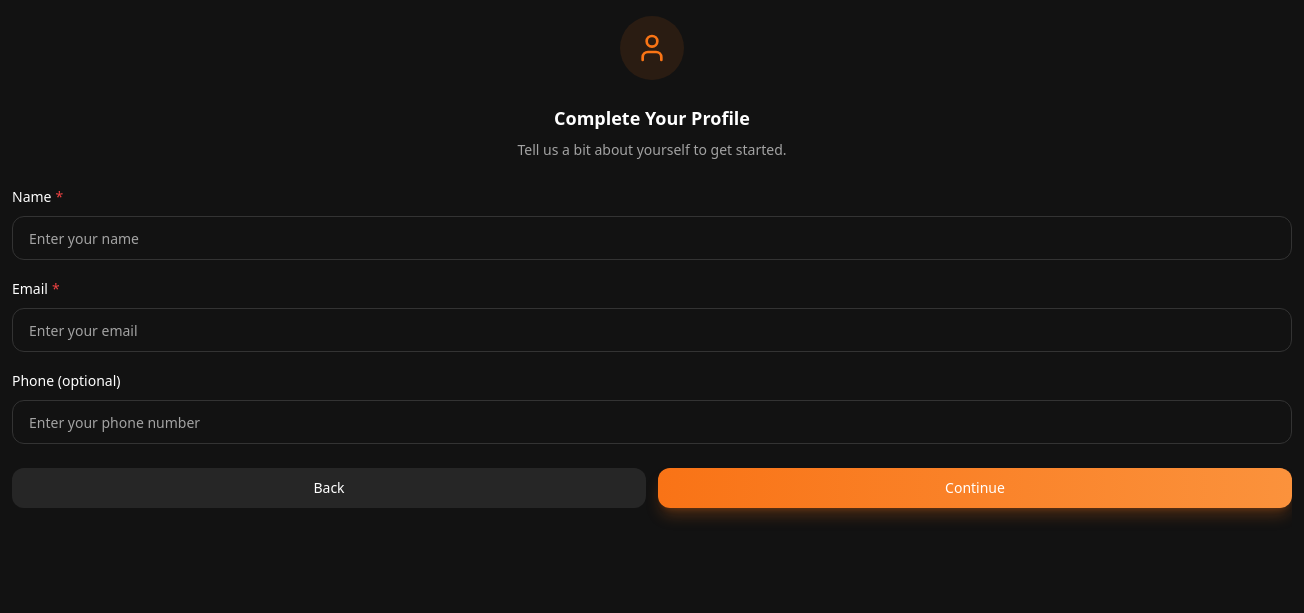
Test case: shows the API error and stays on the step when saving fails
Type "Alice" into the field labelled "Name*" at [652, 238], box [12,216,1292,260]
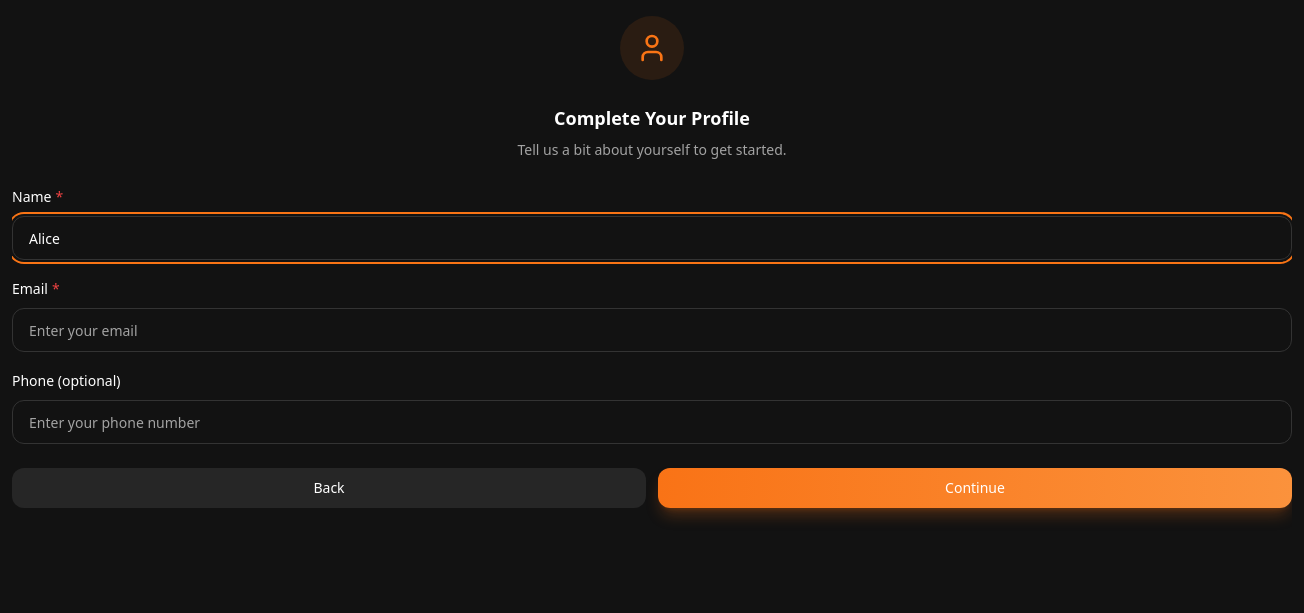
Type "alice@example.com" into the field labelled "Email*" at [652, 330], box [12,308,1292,352]
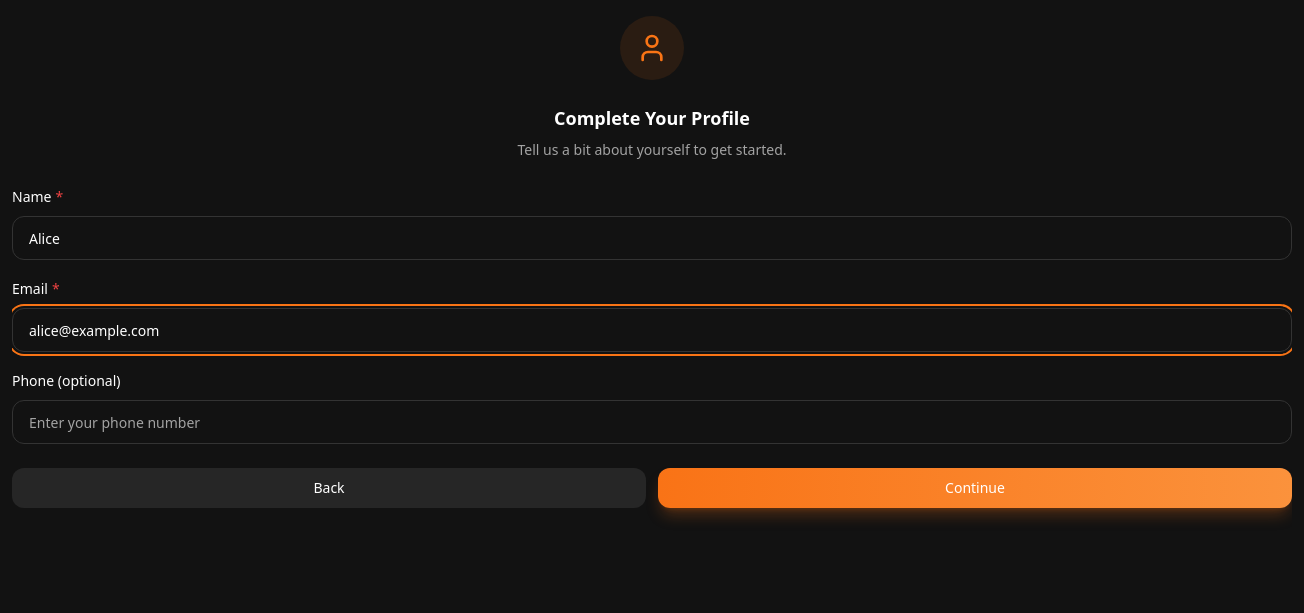
Click the button "Continue" at [975, 488], box [658,468,1292,508]
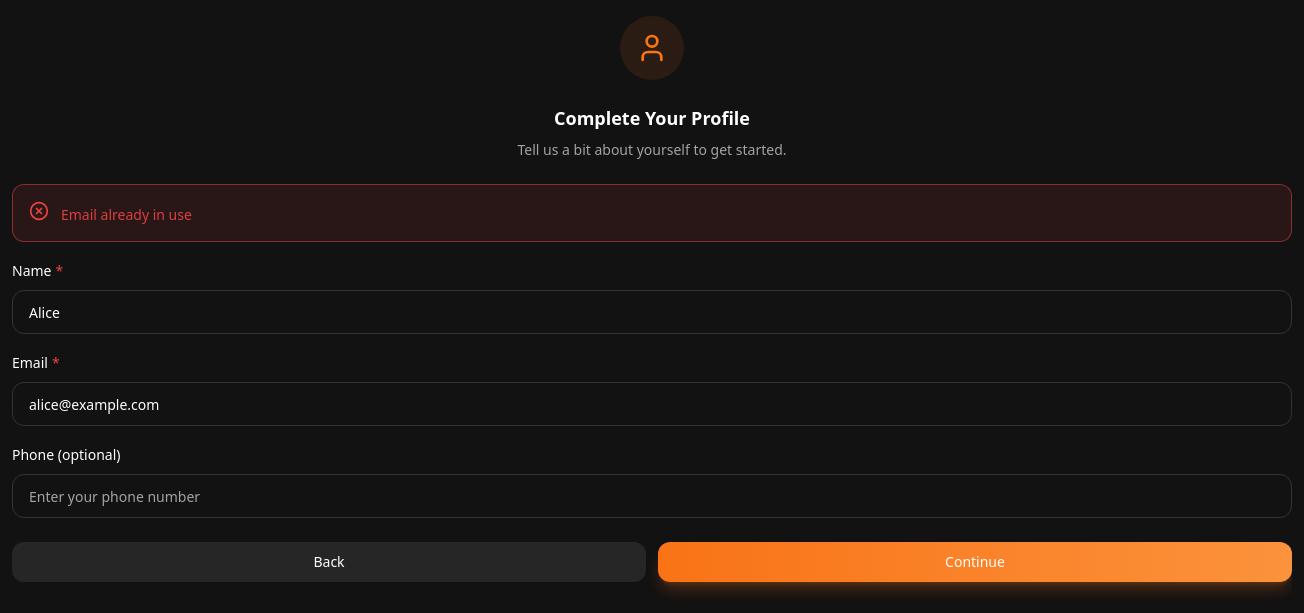
Expected: the message reads "Email already in use", [61,205,192,224]
